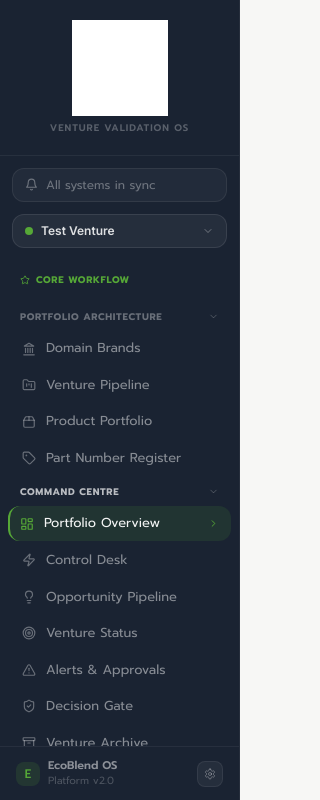
Test case: Sidebar — ReactivationPanel prop wiring › panel is hidden again after a second gear button click (toggle close)
Click the button with test id "gear-button" at [210, 774], box [197,761,223,787]
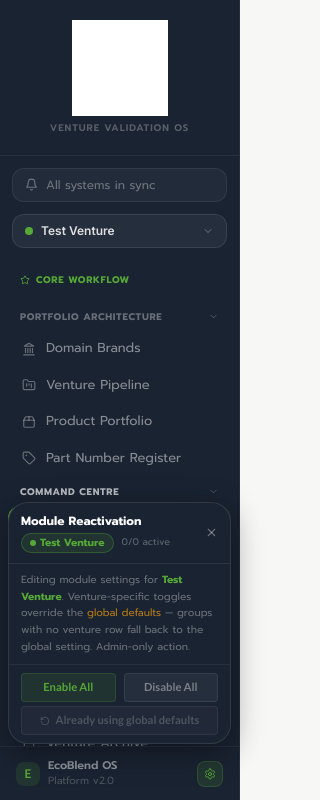
Result: the element with test id "reactivation-panel" is shown at [8,502,231,744]
Click the button with test id "gear-button" at [210, 774], box [197,761,223,787]
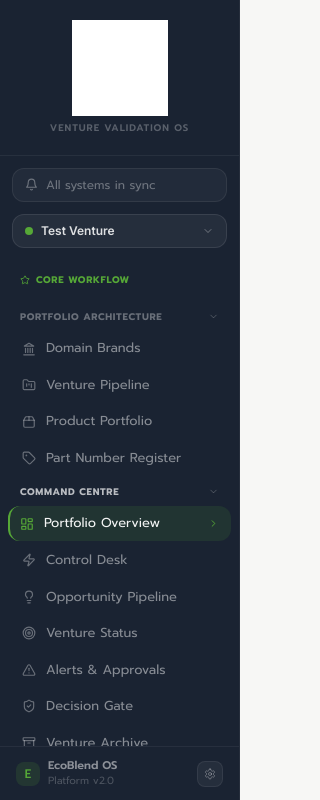
Result: the element with test id "reactivation-panel" is gone
